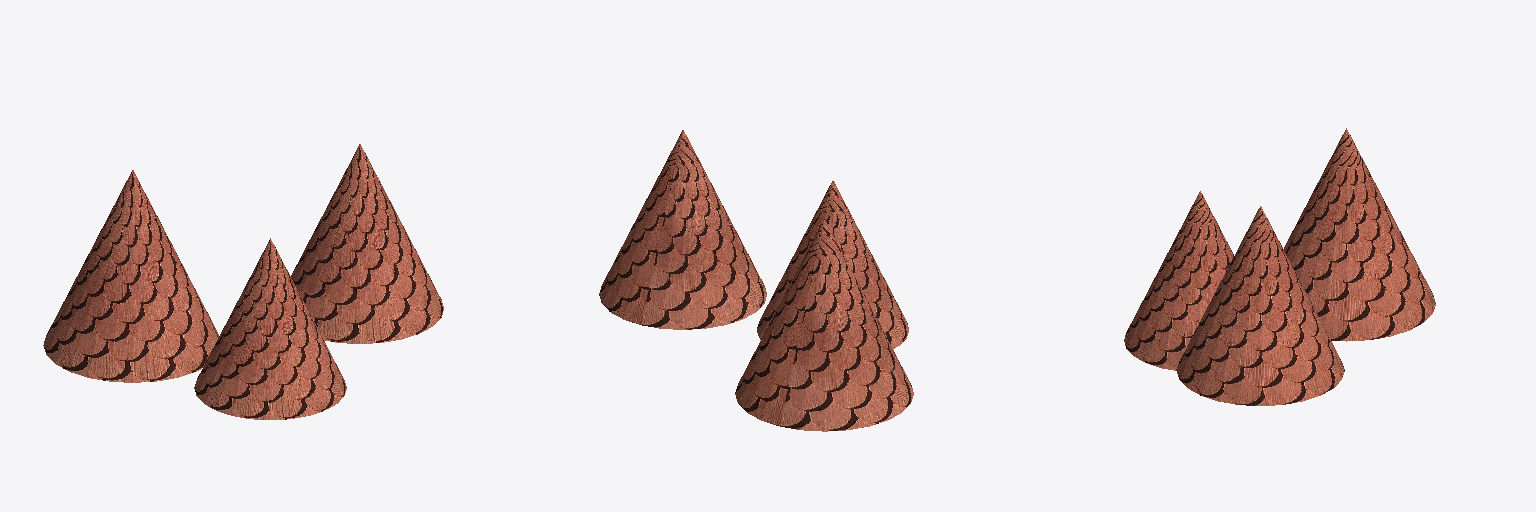
The picture shows the model from 3 angles: view 1: azimuth 30°, elevation 25°; view 2: azimuth 150°, elevation 25°; view 3: azimuth 270°, elevation 25°; orthographic projection.
Visible parts, largest first — view 1: Cone004, Cone003, Cone002; view 2: Cone004, Cone003, Cone002; view 3: Cone003, Cone004, Cone002.
Boxes of the visible parts, x1=… form: Cone004: x1=43, y1=170, x2=218, y2=382; Cone003: x1=291, y1=144, x2=443, y2=343; Cone002: x1=194, y1=238, x2=346, y2=419; Cone004: x1=735, y1=218, x2=913, y2=431; Cone003: x1=599, y1=130, x2=766, y2=329; Cone002: x1=757, y1=181, x2=908, y2=348; Cone003: x1=1176, y1=206, x2=1344, y2=405; Cone004: x1=1284, y1=128, x2=1435, y2=341; Cone002: x1=1124, y1=191, x2=1233, y2=370.
Bounding box in the file's own units: 37.67 × 20.81 × 30.41.
1 materials, 1 textured.